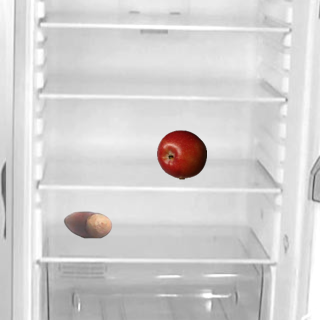Apple Braeburn: (156, 129, 206, 179)
Hazelnut: (62, 199, 112, 249)
